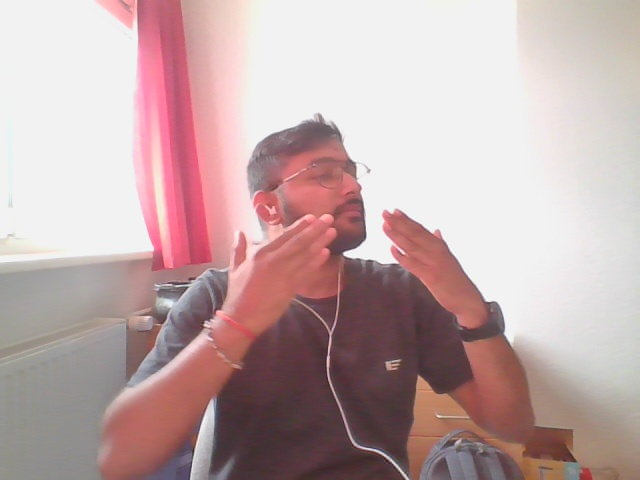ThankYou: (230, 207, 478, 310)
